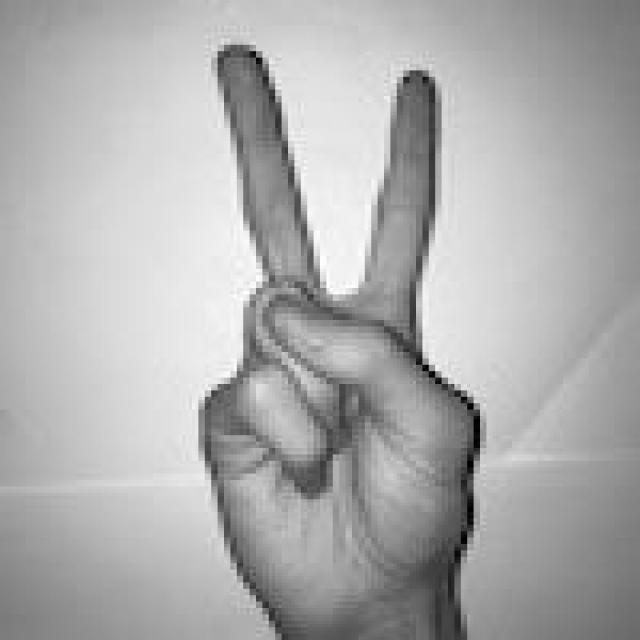V: (182, 35, 493, 634)
